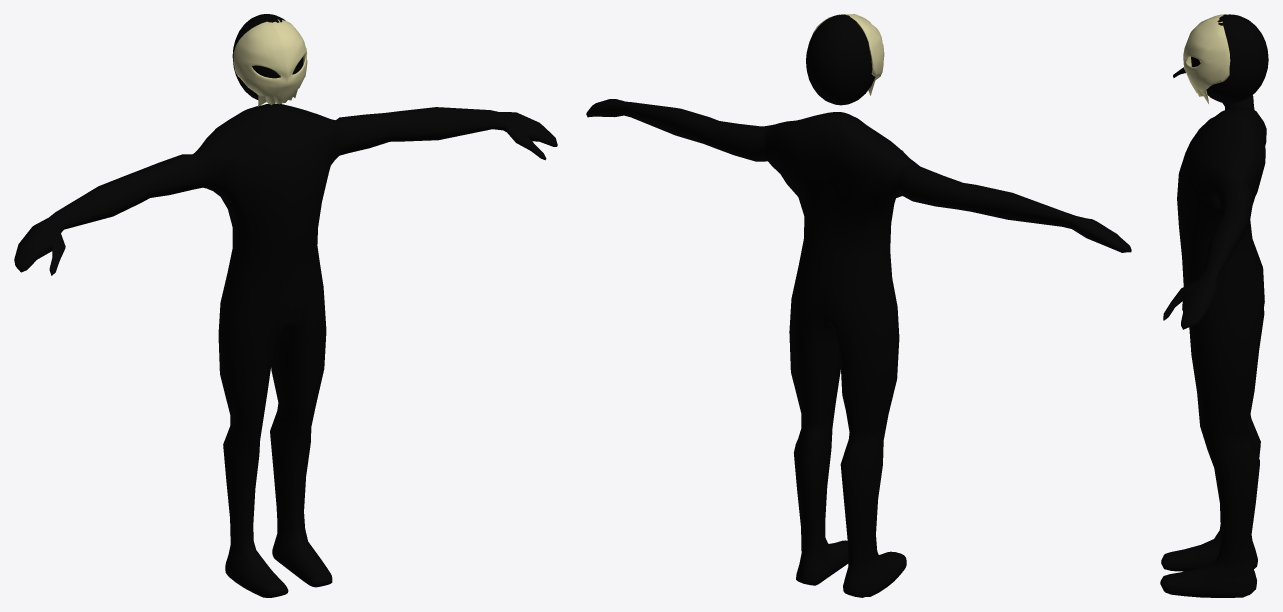
Rendered from PersonaT.fbx.
3 views of the same model, side by side, from view 1: azimuth 30°, elevation 25°; view 2: azimuth 150°, elevation 25°; view 3: azimuth 270°, elevation 25° (orthographic). The views are drawn at different scales.
Parts seen in each view (by area): view 1: Protagonista; view 2: Protagonista; view 3: Protagonista.
Boxes of the visible parts, x1,y1,x2,y2 form: Protagonista: (14, 14, 557, 597); Protagonista: (586, 14, 1131, 597); Protagonista: (1160, 14, 1268, 597).
Bounding box in the file's own units: 44.01 × 43.59 × 7.61.
